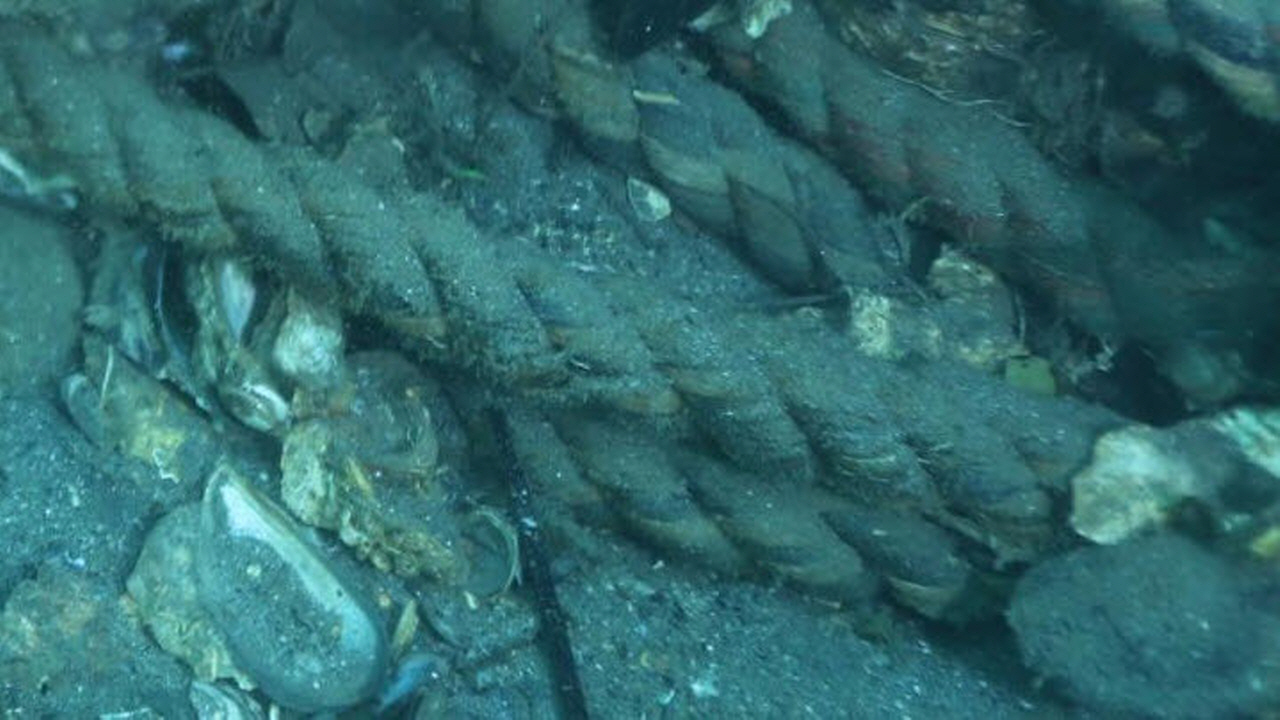bundle of ropes: (0, 0, 1280, 626)
